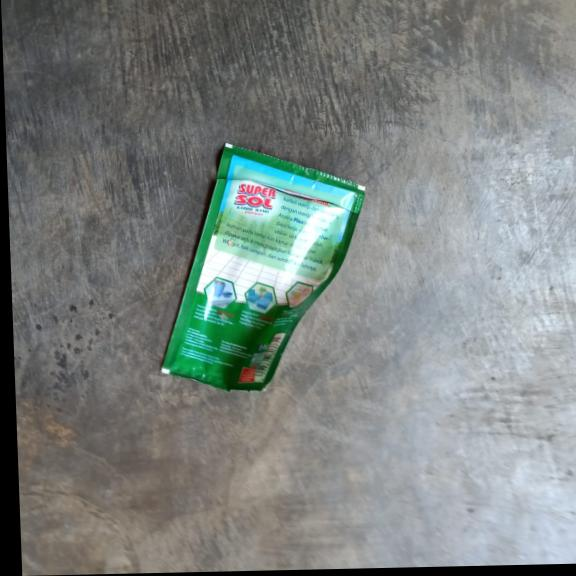Plastik: (151, 138, 371, 395)
